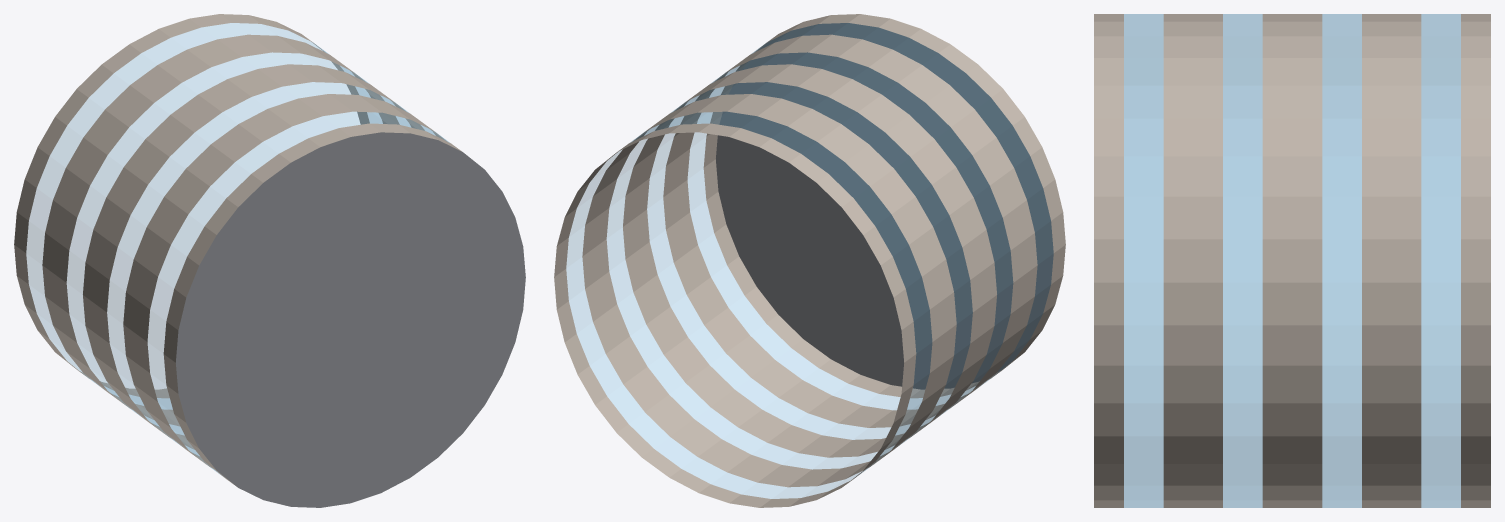
The picture shows the model from 3 angles, left to right: view 1: azimuth 30°, elevation 25°; view 2: azimuth 150°, elevation 25°; view 3: azimuth 270°, elevation 25°; orthographic projection. The views are drawn at different scales.
Parts seen in each view (by area): view 1: Atap_Beton, Dinding_Bata, Kaca_Jendela; view 2: Dinding_Bata, Kaca_Jendela, Atap_Beton; view 3: Dinding_Bata, Kaca_Jendela.
Part boxes in pixels (<box>): Atap_Beton: <box>176,132,525,507</box>; Dinding_Bata: <box>14,14,461,486</box>; Kaca_Jendela: <box>26,23,449,475</box>; Dinding_Bata: <box>554,14,1065,507</box>; Kaca_Jendela: <box>566,23,1053,498</box>; Atap_Beton: <box>716,23,1053,389</box>; Dinding_Bata: <box>1094,14,1490,507</box>; Kaca_Jendela: <box>1124,14,1460,507</box>.
Bounding box in the file's own units: 20 × 20 × 16.
